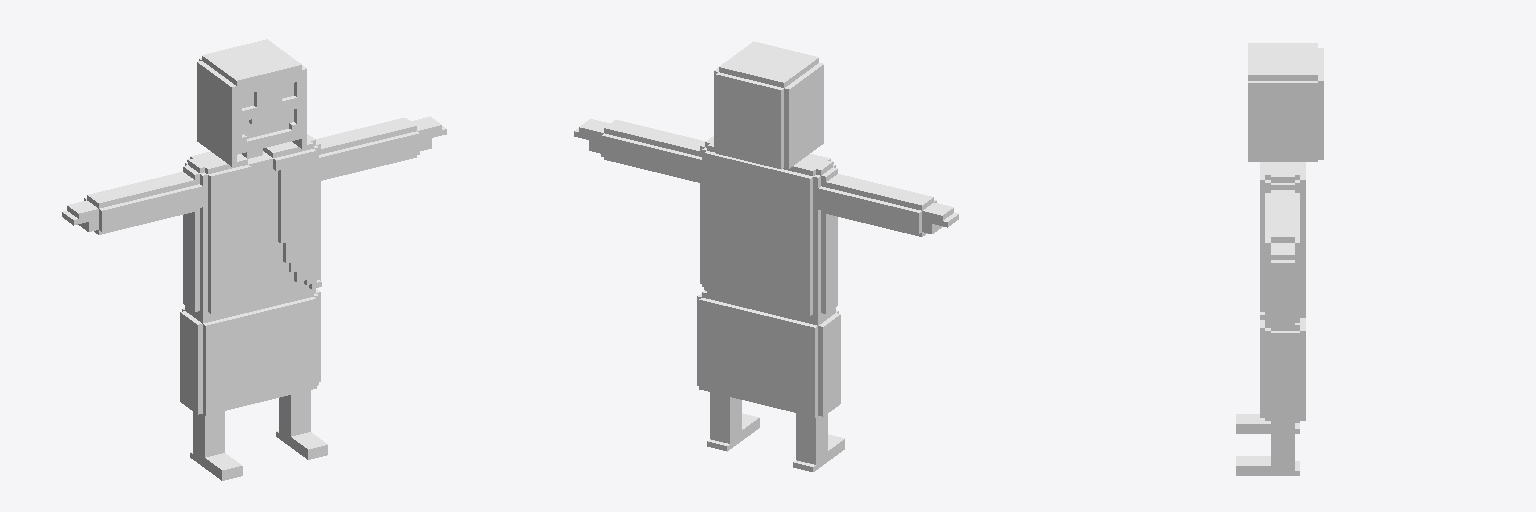
The model's file is granny.obj.
3 renders of one model, left to right at view 1: azimuth 30°, elevation 25°; view 2: azimuth 150°, elevation 25°; view 3: azimuth 270°, elevation 25°, orthographic.
Parts seen in each view (by area): view 1: object 1; view 2: object 1; view 3: object 1.
Part boxes in pixels (left/top/right/bottom): object 1: left=62, top=39, right=446, bottom=480; object 1: left=574, top=41, right=958, bottom=471; object 1: left=1236, top=43, right=1323, bottom=475.
Size of the model in its own units: 7.4 by 7.4 by 1.5.